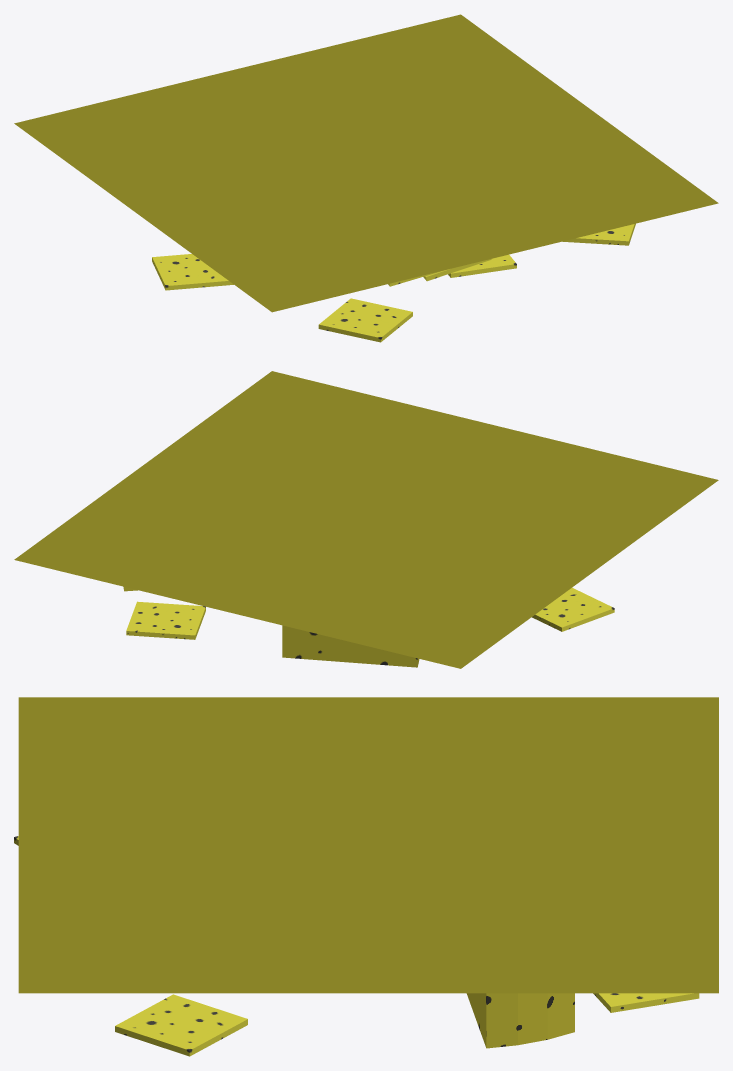
The model's file is CheeseTable.fbx.
3 renders of one model, top to bottom at view 1: azimuth 30°, elevation 25°; view 2: azimuth 150°, elevation 25°; view 3: azimuth 270°, elevation 25°, orthographic. The views are drawn at different scales.
Visible parts, largest first — view 1: Cheese; view 2: Cheese; view 3: Cheese.
Boxes of the visible parts, <box> form: Cheese: <box>14,14,718,342</box>; Cheese: <box>14,371,718,668</box>; Cheese: <box>14,697,718,1056</box>.
Bounding box in the file's own units: 185 × 22.26 × 186.
